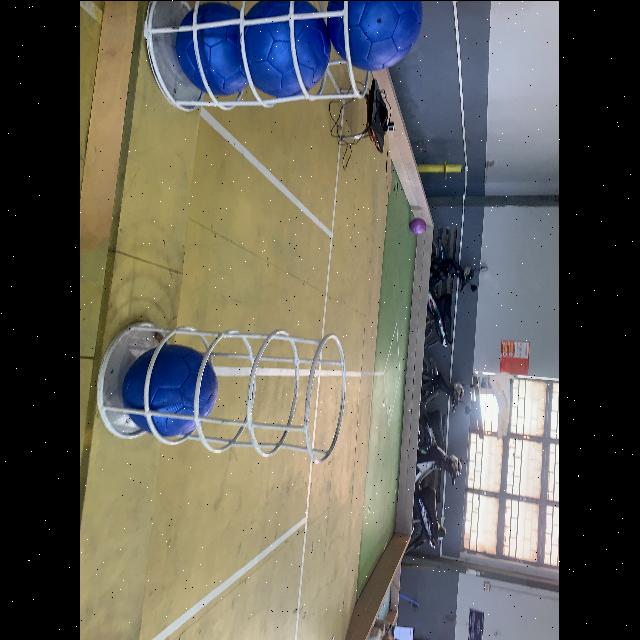B: (123, 342, 219, 436), (247, 0, 331, 94), (176, 2, 252, 94), (328, 0, 424, 70)
